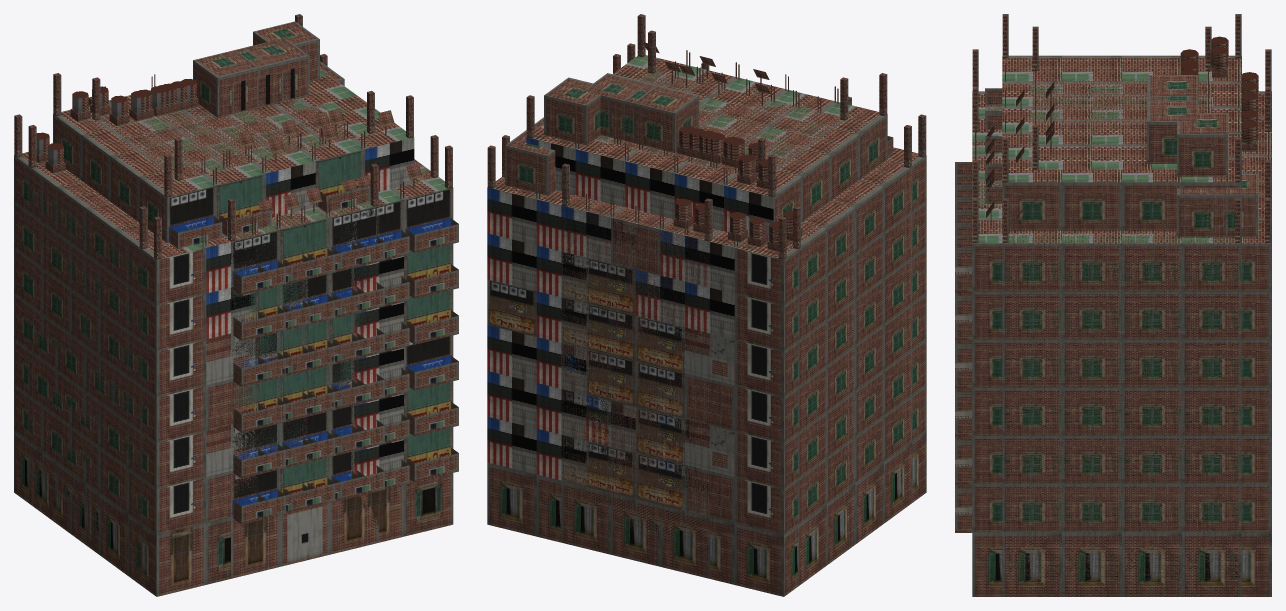
3 renders of one model, left to right at view 1: azimuth 30°, elevation 25°; view 2: azimuth 150°, elevation 25°; view 3: azimuth 270°, elevation 25°, orthographic. The views are drawn at different scales.
Parts seen in each view (by area): view 1: Brick_6x5_f6_v1, Brick_3x5_f6_v1, Brick_5x4_f7_v0, Brick_4x5_f5_v0, Brick_6x3_f5_v1, Brick_6x4_f5_v1, Brick_4x3_f7_v1, Brick_6x4_f6_v1, Brick_2x3_f7_v0, Brick_3x3_f7_v0; view 2: Brick_6x5_f6_v1, Brick_4x5_f5_v0, Brick_3x5_f6_v1, Brick_6x4_f5_v1, Brick_5x4_f7_v0, Brick_4x3_f7_v1, Brick_6x4_f6_v1, Brick_2x3_f7_v0, Brick_3x3_f7_v0; view 3: Brick_6x4_f5_v1, Brick_6x5_f6_v1, Brick_5x4_f7_v0, Brick_6x3_f5_v1, Brick_6x4_f6_v1, Brick_4x3_f7_v1, Brick_3x5_f6_v1, Brick_3x3_f7_v0, Brick_2x3_f7_v0.
Boxes of the visible parts, x1,y1,x2,y2 form: Brick_6x5_f6_v1: (14, 114, 458, 596); Brick_3x5_f6_v1: (88, 96, 384, 578); Brick_5x4_f7_v0: (53, 14, 414, 248); Brick_4x5_f5_v0: (206, 256, 403, 584); Brick_6x3_f5_v1: (42, 224, 128, 575); Brick_6x4_f5_v1: (28, 212, 142, 585); Brick_4x3_f7_v1: (92, 30, 374, 180); Brick_6x4_f6_v1: (28, 54, 438, 293); Brick_2x3_f7_v0: (162, 52, 323, 167); Brick_3x3_f7_v0: (127, 46, 350, 174); Brick_6x5_f6_v1: (487, 43, 926, 596); Brick_4x5_f5_v0: (536, 245, 734, 584); Brick_3x5_f6_v1: (561, 62, 851, 578); Brick_6x4_f5_v1: (798, 212, 912, 585); Brick_5x4_f7_v0: (526, 14, 893, 240); Brick_4x3_f7_v1: (566, 30, 848, 178); Brick_6x4_f6_v1: (502, 54, 912, 294); Brick_2x3_f7_v0: (617, 67, 793, 166); Brick_3x3_f7_v0: (595, 61, 823, 174); Brick_6x4_f5_v1: (1002, 291, 1241, 596); Brick_6x5_f6_v1: (955, 49, 1271, 596); Brick_5x4_f7_v0: (985, 14, 1241, 230); Brick_6x3_f5_v1: (1032, 291, 1211, 596); Brick_6x4_f6_v1: (1002, 188, 1241, 291); Brick_4x3_f7_v1: (1032, 26, 1211, 169); Brick_3x5_f6_v1: (955, 87, 1271, 488); Brick_3x3_f7_v0: (1032, 62, 1211, 156); Brick_2x3_f7_v0: (1035, 74, 1208, 124).
Bounding box in the file's own units: 21 × 28.6 × 18.5.
1 material, 1 textured.
